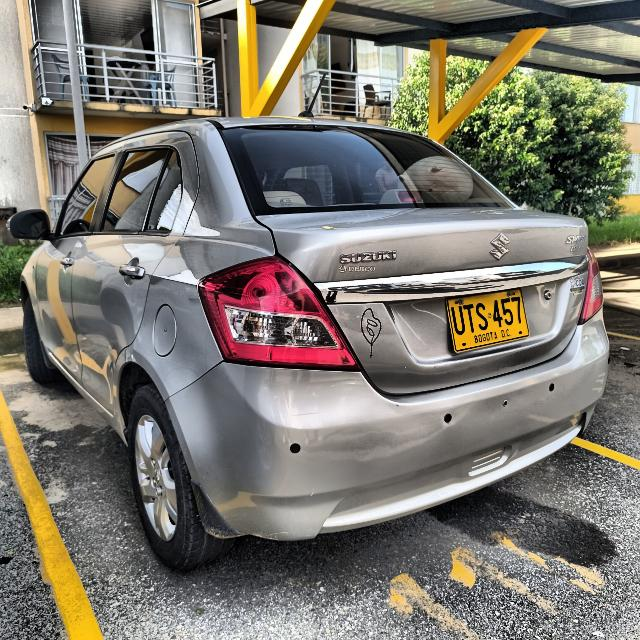plate: (447, 289, 528, 351)
